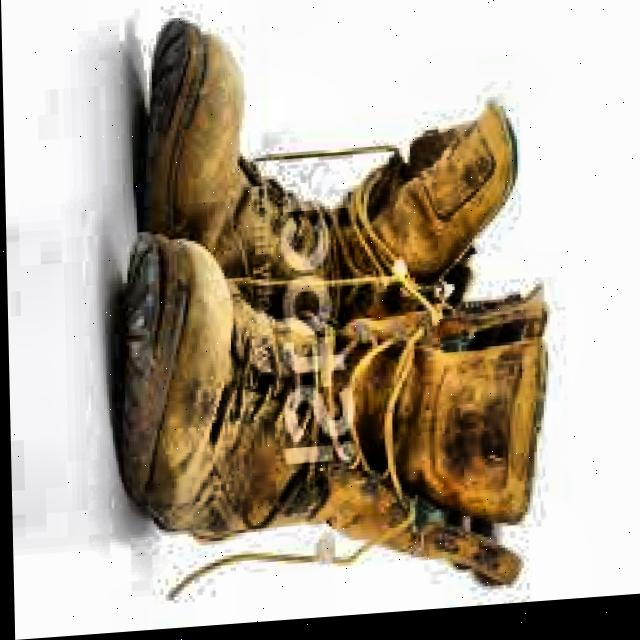shoes: (88, 0, 567, 623)
